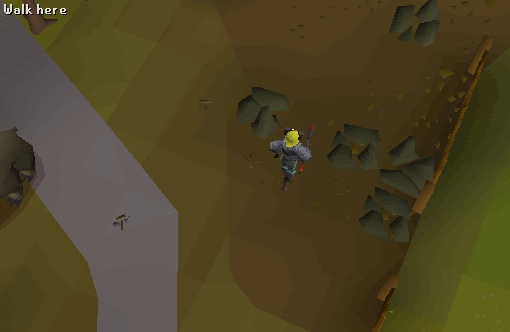coal: (321, 113, 390, 182), (228, 76, 297, 145), (381, 1, 448, 54)
